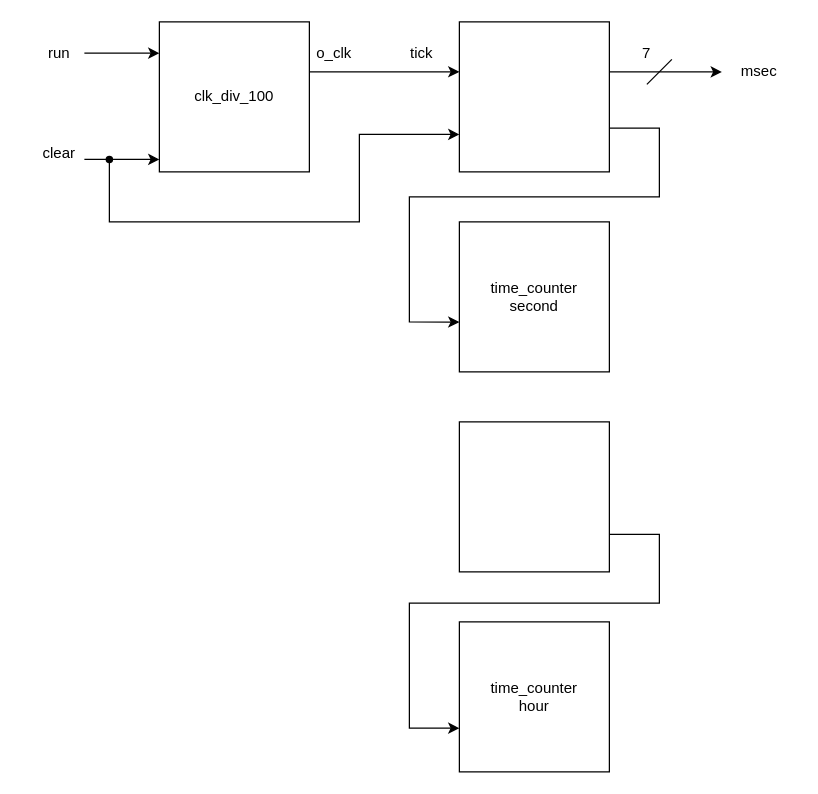
This 818x794 diagram has some shape labels left out. Here are the shapes that lost their labels. From the top down, the centre of each, then its label:
At (533,96): "time_counter milisecond".
At (533,496): "time_counter minute".
